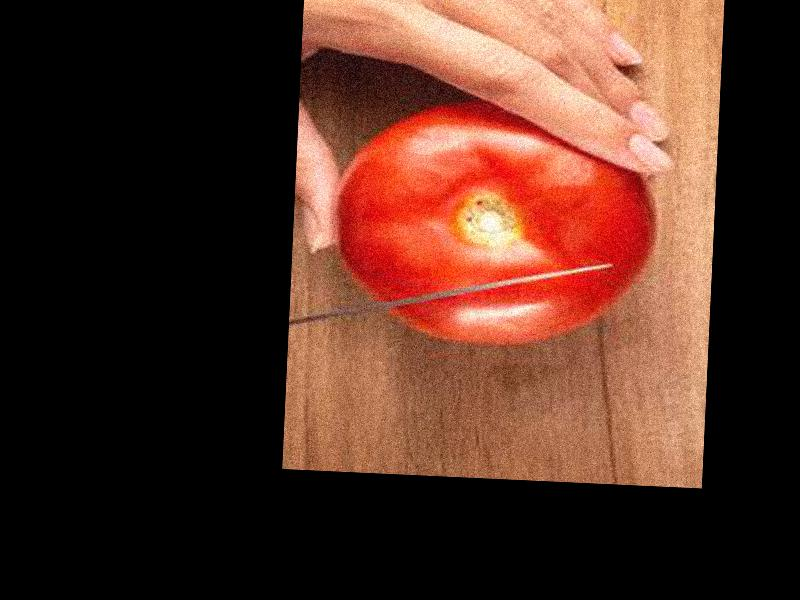Tomato: (333, 92, 659, 346)
